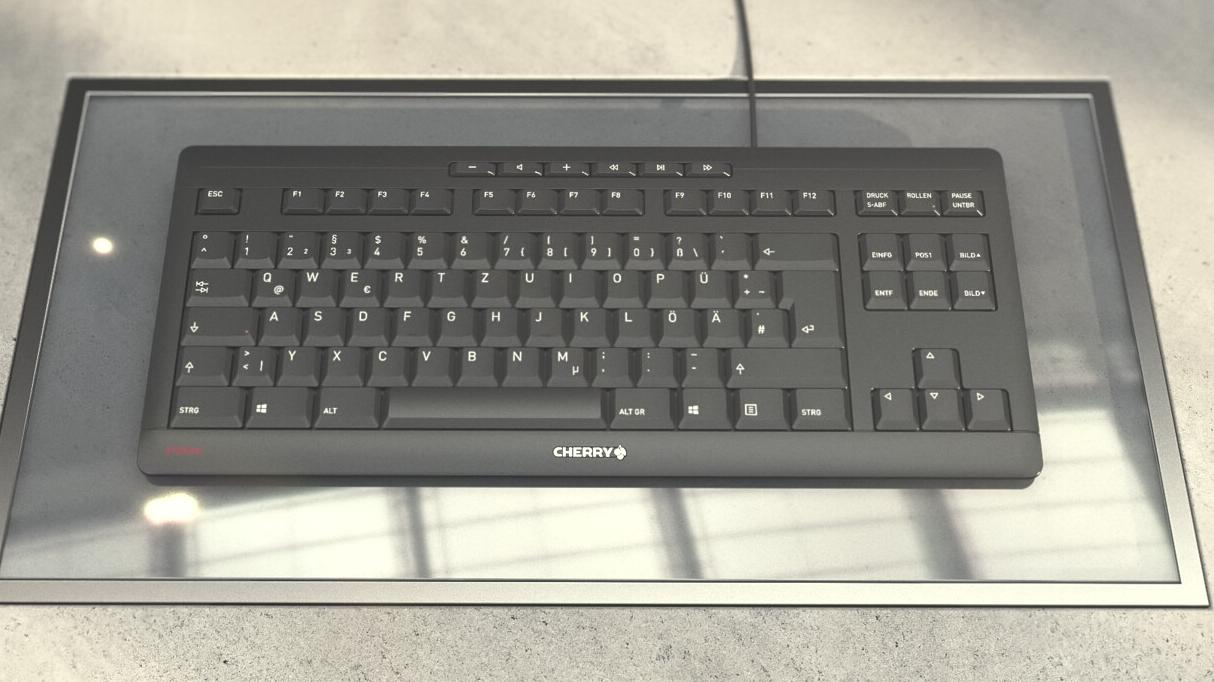0: (624, 228, 661, 265)
1: (234, 228, 273, 263)
2: (277, 228, 317, 264)
3: (321, 227, 360, 264)
4: (364, 228, 401, 263)
5: (406, 228, 444, 263)
6: (450, 228, 488, 264)
7: (494, 228, 533, 264)
8: (536, 228, 576, 265)
9: (580, 229, 620, 265)
a: (260, 305, 297, 340)
accent: (710, 229, 747, 267)
ae: (703, 306, 740, 342)
alt-left: (312, 383, 377, 427)
altgr-right: (609, 383, 672, 427)
b: (457, 343, 494, 382)
c: (367, 344, 404, 382)
caret: (189, 228, 229, 261)
comma: (591, 344, 628, 384)
d: (349, 304, 384, 340)
del: (753, 229, 835, 263)
e: (342, 266, 379, 301)
enter: (777, 264, 840, 345)
f: (393, 304, 427, 339)
g: (437, 304, 472, 340)
h: (482, 305, 516, 340)
hash: (747, 305, 784, 344)
i: (561, 267, 595, 300)
j: (525, 304, 561, 342)
k: (570, 305, 605, 341)
keyboard: (135, 146, 1043, 478)
l: (614, 305, 649, 342)
less: (231, 343, 273, 383)
m: (548, 344, 584, 383)
minus: (681, 345, 717, 383)
n: (502, 344, 539, 384)
o: (604, 267, 638, 300)
oe: (658, 306, 694, 342)
p: (647, 267, 681, 301)
plus: (733, 267, 771, 305)
point: (637, 345, 673, 383)
q: (251, 266, 293, 303)
r: (386, 266, 418, 299)
s: (303, 304, 340, 341)
shift-left: (173, 343, 226, 383)
shift-lock: (181, 303, 255, 342)
shift-right: (724, 344, 843, 384)
space: (148, 427, 859, 484), (522, 429, 1076, 479), (386, 384, 601, 420)
ss: (666, 228, 704, 265)
strg-left: (166, 382, 244, 427)
strg-right: (790, 385, 850, 428)
t: (429, 267, 462, 299)
tab: (184, 265, 248, 302)
u: (516, 266, 551, 300)
ue: (689, 267, 726, 302)
v: (413, 344, 448, 383)
w: (298, 266, 334, 298)
x: (323, 344, 359, 382)
y: (279, 344, 316, 383)
z: (472, 267, 507, 300)
